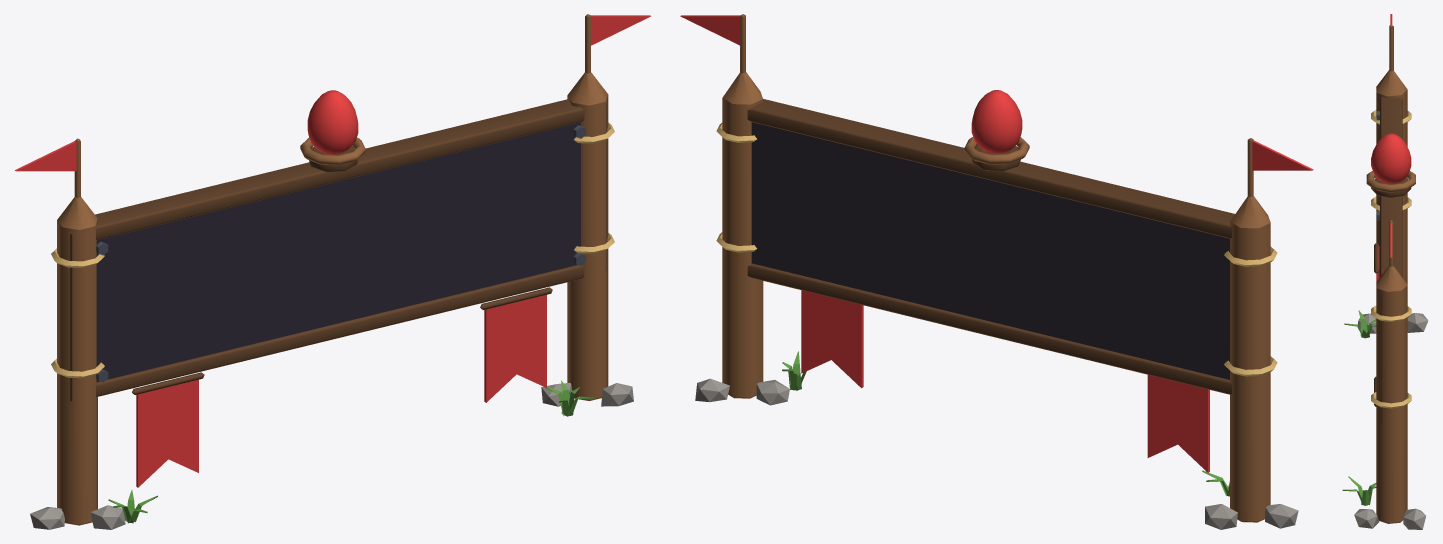
Rendered from owner-sign.glb.
3 renders of one model, left to right at view 1: azimuth 30°, elevation 25°; view 2: azimuth 150°, elevation 25°; view 3: azimuth 270°, elevation 25°, orthographic. The views are drawn at different scales.
Parts seen in each view (by area): view 1: OwnerSign_SignBoard, OwnerSign_Posts, OwnerSign_Frame, OwnerSign_Accent, OwnerSign_Stones, OwnerSign_Rope, OwnerSign_Grass; view 2: OwnerSign_SignBoard, OwnerSign_Posts, OwnerSign_Frame, OwnerSign_Accent, OwnerSign_Stones, OwnerSign_Rope; view 3: OwnerSign_Posts, OwnerSign_Frame, OwnerSign_Accent, OwnerSign_Stones, OwnerSign_Rope, OwnerSign_Grass.
Boxes of the visible parts, x1,y1,x2,y2 form: OwnerSign_SignBoard: [96, 122, 580, 382]; OwnerSign_Posts: [57, 14, 608, 525]; OwnerSign_Frame: [70, 99, 606, 401]; OwnerSign_Accent: [15, 15, 650, 487]; OwnerSign_Stones: [30, 383, 633, 529]; OwnerSign_Rope: [51, 122, 614, 378]; OwnerSign_Grass: [108, 380, 594, 523]; OwnerSign_SignBoard: [751, 122, 1229, 379]; OwnerSign_Posts: [722, 14, 1270, 522]; OwnerSign_Frame: [747, 99, 1234, 394]; OwnerSign_Accent: [680, 15, 1313, 472]; OwnerSign_Stones: [695, 378, 1298, 529]; OwnerSign_Rope: [716, 123, 1277, 376]; OwnerSign_Posts: [1366, 24, 1415, 523]; OwnerSign_Frame: [1371, 97, 1411, 425]; OwnerSign_Accent: [1371, 14, 1411, 281]; OwnerSign_Stones: [1354, 313, 1428, 529]; OwnerSign_Rope: [1371, 110, 1411, 408]; OwnerSign_Grass: [1342, 310, 1376, 505].
Bounding box in the file's own units: 15.7 × 8.99 × 2.34.
